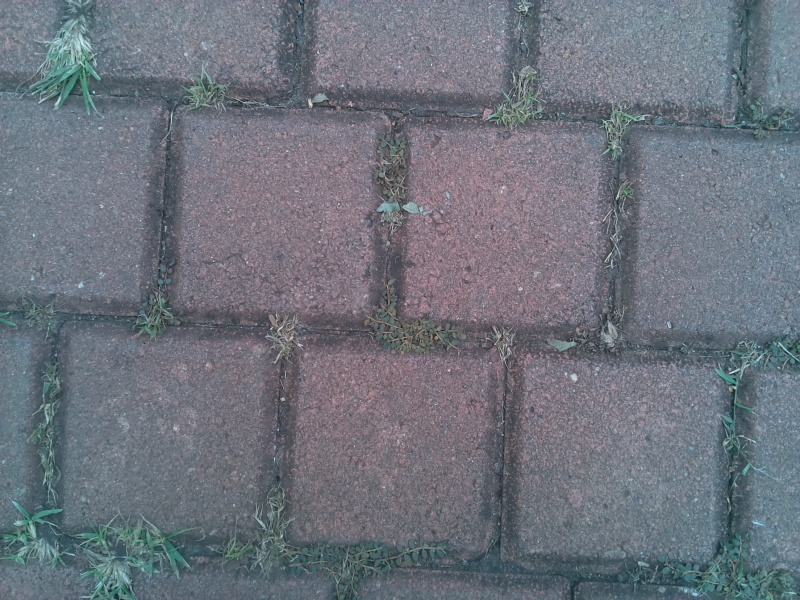Weed: (620, 530, 786, 600), (286, 534, 450, 596), (28, 11, 106, 118), (82, 515, 199, 580), (365, 300, 469, 363), (223, 503, 308, 575), (481, 71, 551, 137), (33, 361, 66, 495), (5, 503, 64, 568), (593, 101, 648, 166), (596, 178, 632, 271), (82, 547, 145, 599), (736, 328, 800, 374), (13, 290, 67, 342), (372, 192, 429, 239), (736, 99, 794, 142), (371, 128, 412, 187), (127, 289, 176, 337), (265, 311, 307, 366), (182, 70, 228, 115), (485, 320, 521, 369)
